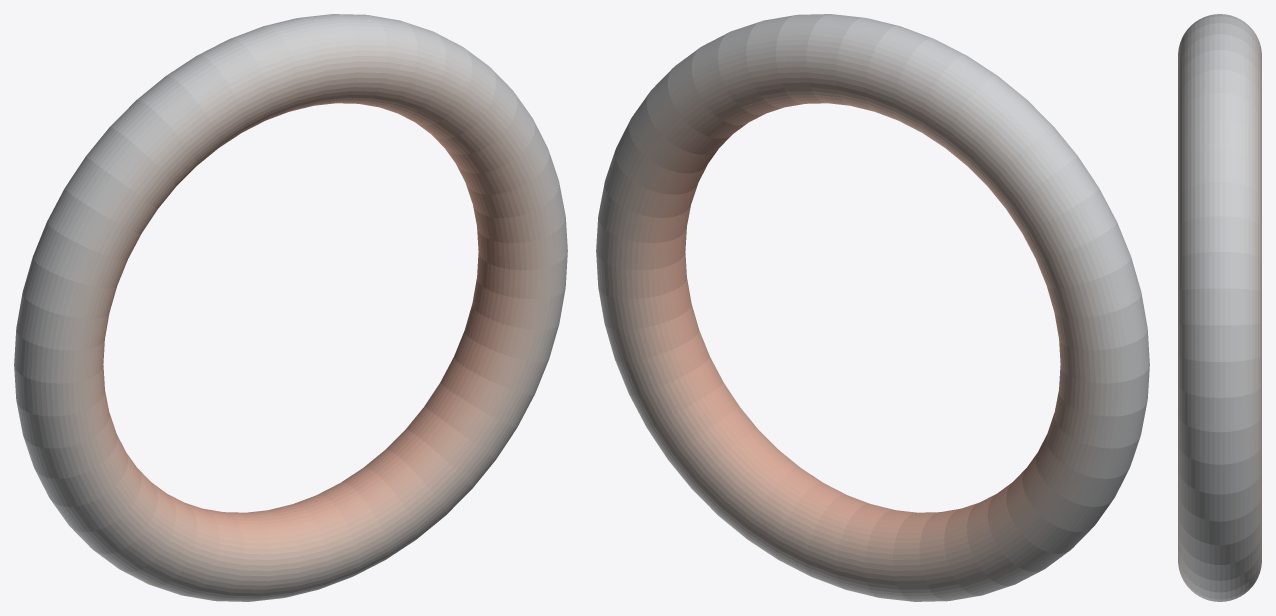
The picture shows the model from 3 angles, left to right: view 1: azimuth 30°, elevation 25°; view 2: azimuth 150°, elevation 25°; view 3: azimuth 270°, elevation 25°; orthographic projection. The views are drawn at different scales.
Visible parts, largest first — view 1: world; view 2: world; view 3: world.
Part boxes in pixels (x1,y1,x2,y2): world: [14, 14, 567, 601]; world: [596, 14, 1149, 601]; world: [1178, 14, 1261, 601].
Bounding box in the file's own units: 32.67 × 32.6 × 4.66.
